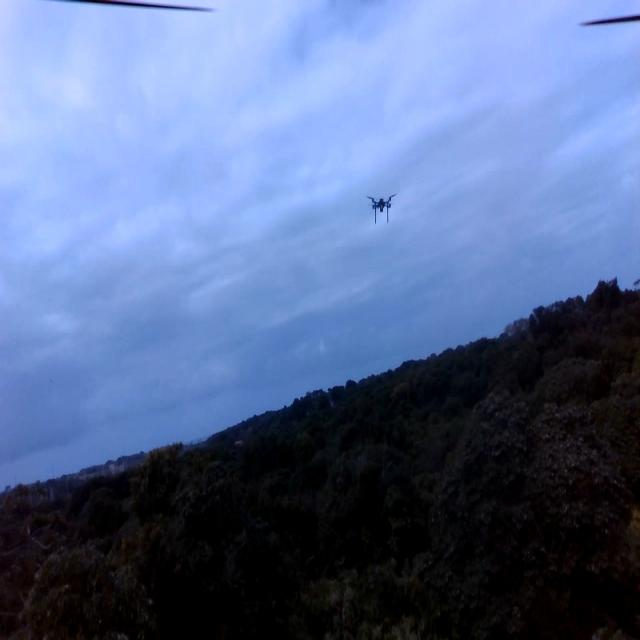-uav-: (360, 178, 399, 226)
